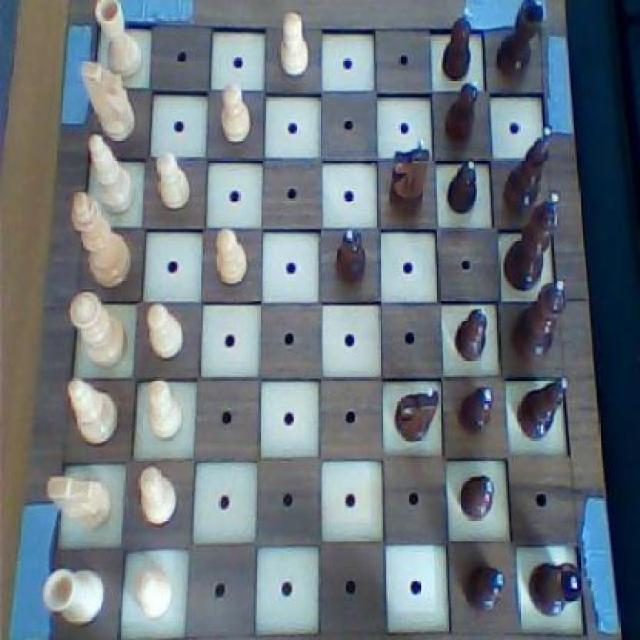bishop: (497, 121, 556, 222), (514, 372, 569, 441)
black-bishop: (502, 191, 564, 292)
black-king: (391, 382, 441, 448), (391, 134, 430, 213)
black-knight: (442, 78, 486, 148), (437, 8, 476, 83), (332, 224, 370, 292), (444, 157, 484, 220), (451, 306, 490, 366), (462, 562, 506, 614), (457, 383, 495, 440), (457, 471, 497, 524)
black-pawn: (509, 275, 569, 364)
black-queen: (492, 0, 548, 82), (525, 556, 587, 616)
black-rook: (86, 132, 137, 218), (61, 376, 120, 448)
white-bishop: (66, 188, 136, 288)
white-king: (77, 55, 140, 144), (43, 466, 112, 539)
white-knight: (143, 376, 188, 444), (134, 465, 181, 530), (272, 11, 313, 82), (145, 298, 189, 362), (131, 564, 175, 624), (154, 148, 191, 215), (217, 80, 252, 147), (214, 225, 249, 286)
white-pawn: (66, 288, 130, 372)
white-queen: (91, 0, 144, 82), (40, 564, 106, 628)
